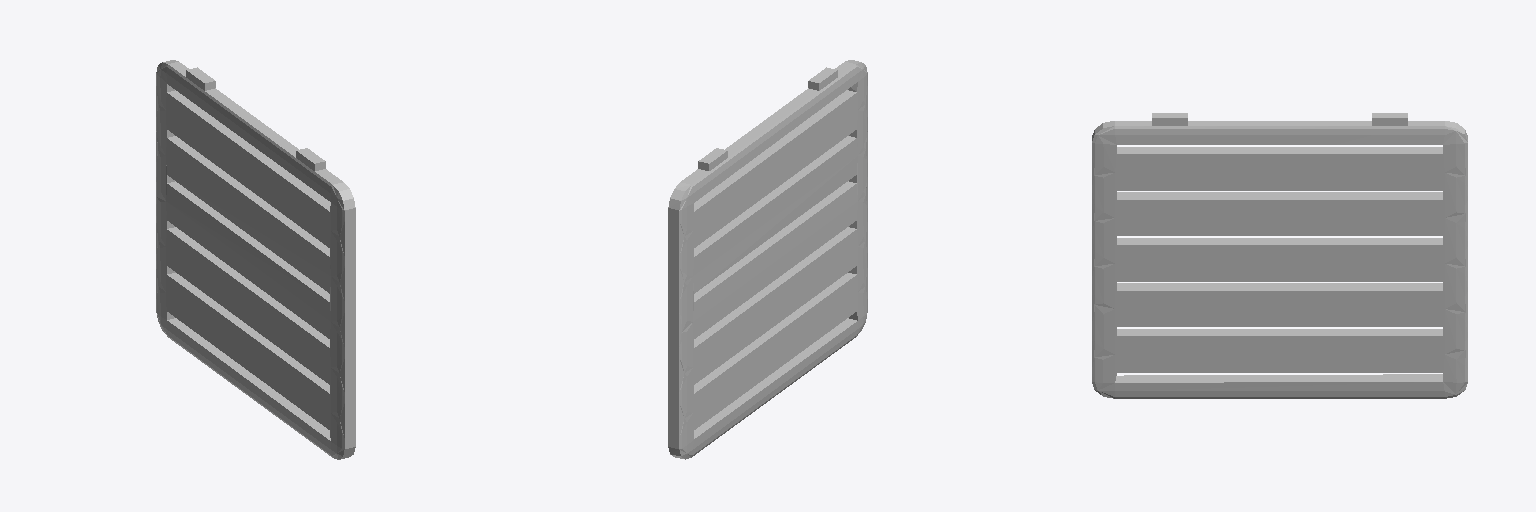
File: vent.obj
3 renders of one model, left to right at view 1: azimuth 30°, elevation 25°; view 2: azimuth 150°, elevation 25°; view 3: azimuth 270°, elevation 25°, orthographic.
Visible parts, largest first — view 1: Cube; view 2: Cube; view 3: Cube.
Part boxes in pixels (left/top/right/bottom): Cube: left=156, top=60, right=355, bottom=459; Cube: left=668, top=60, right=867, bottom=459; Cube: left=1092, top=113, right=1467, bottom=398.
Bounding box in the file's own units: 0.0928 × 1.64 × 2.